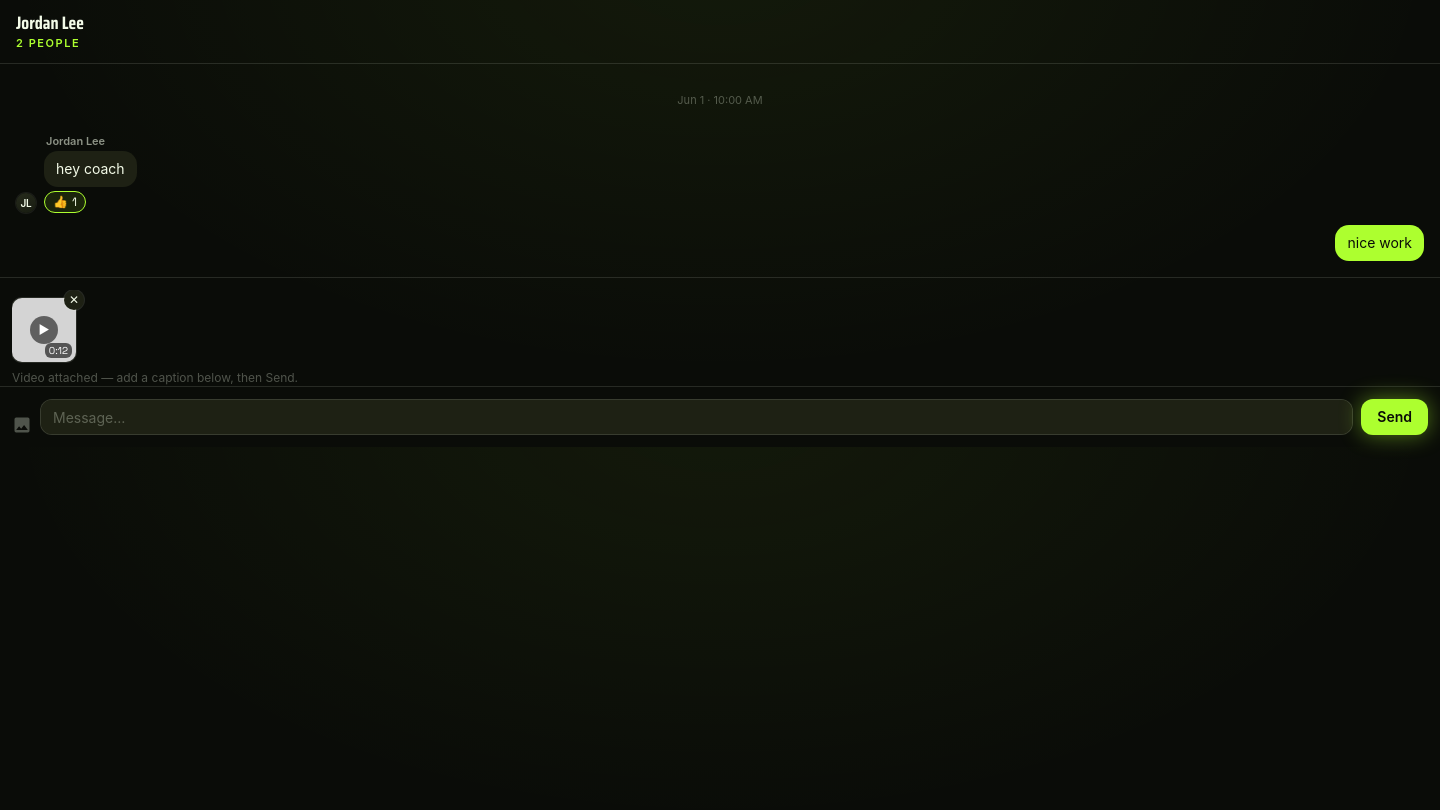
Test: a staged video can be previewed before sending
Click the button named "Preview video": (44, 330) [12,298,76,362]
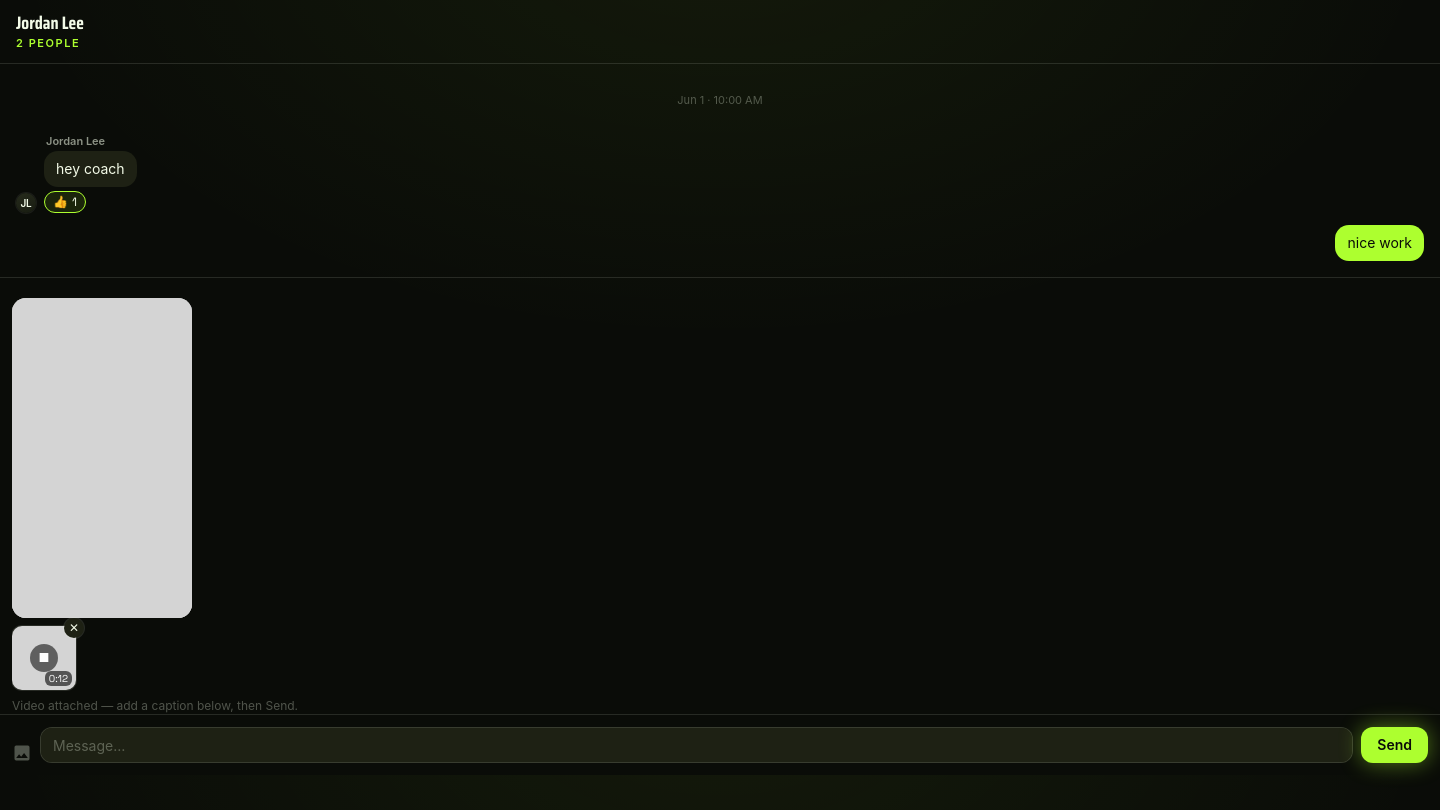
Click the button named "Hide preview": (44, 658) [12,626,76,690]
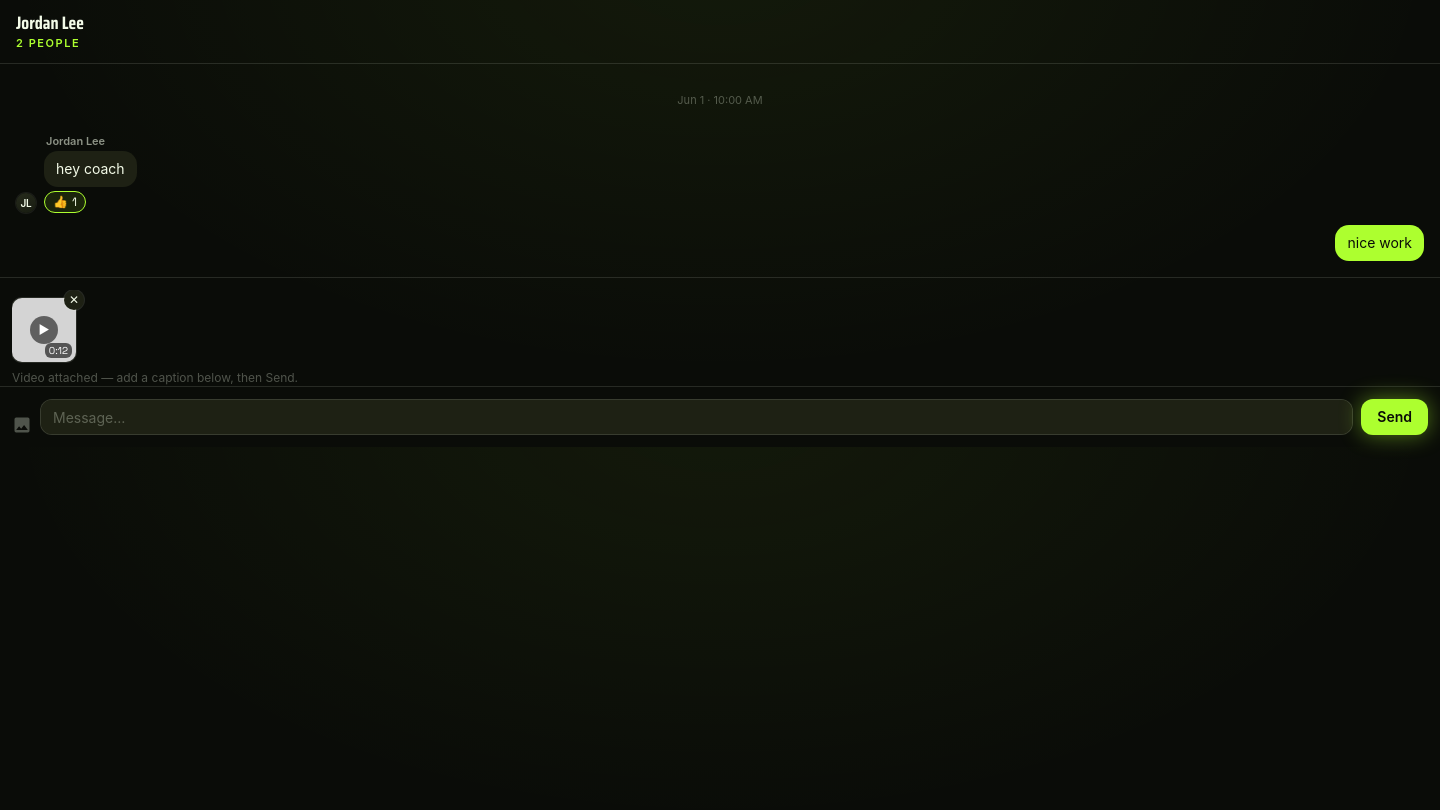
Expected: the element with test id "staged-preview" is gone
